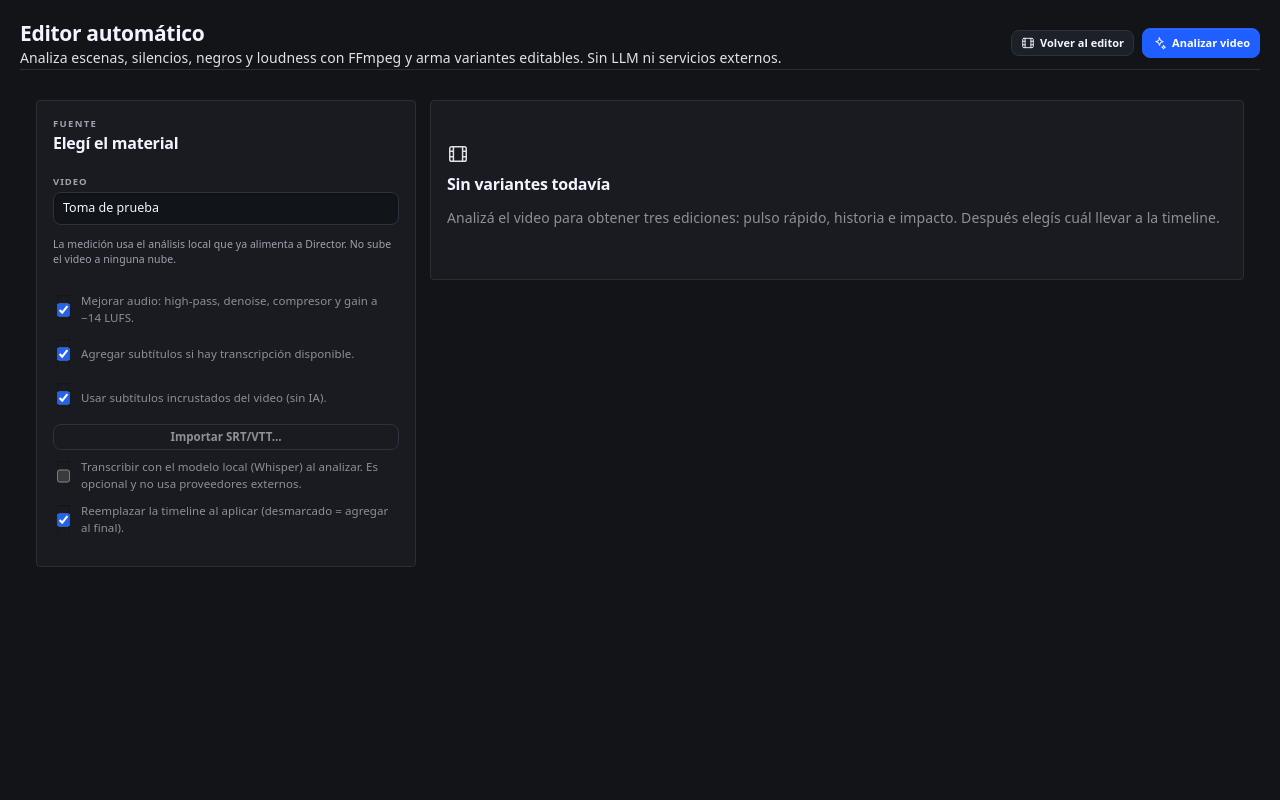
Scenario: editor automático › importa un SRT y lo usa para subtitular las variantes
This screenshot has width=1280, height=800.
Click the button "Analizar video" at (1201, 43), box [1142, 28, 1260, 58]
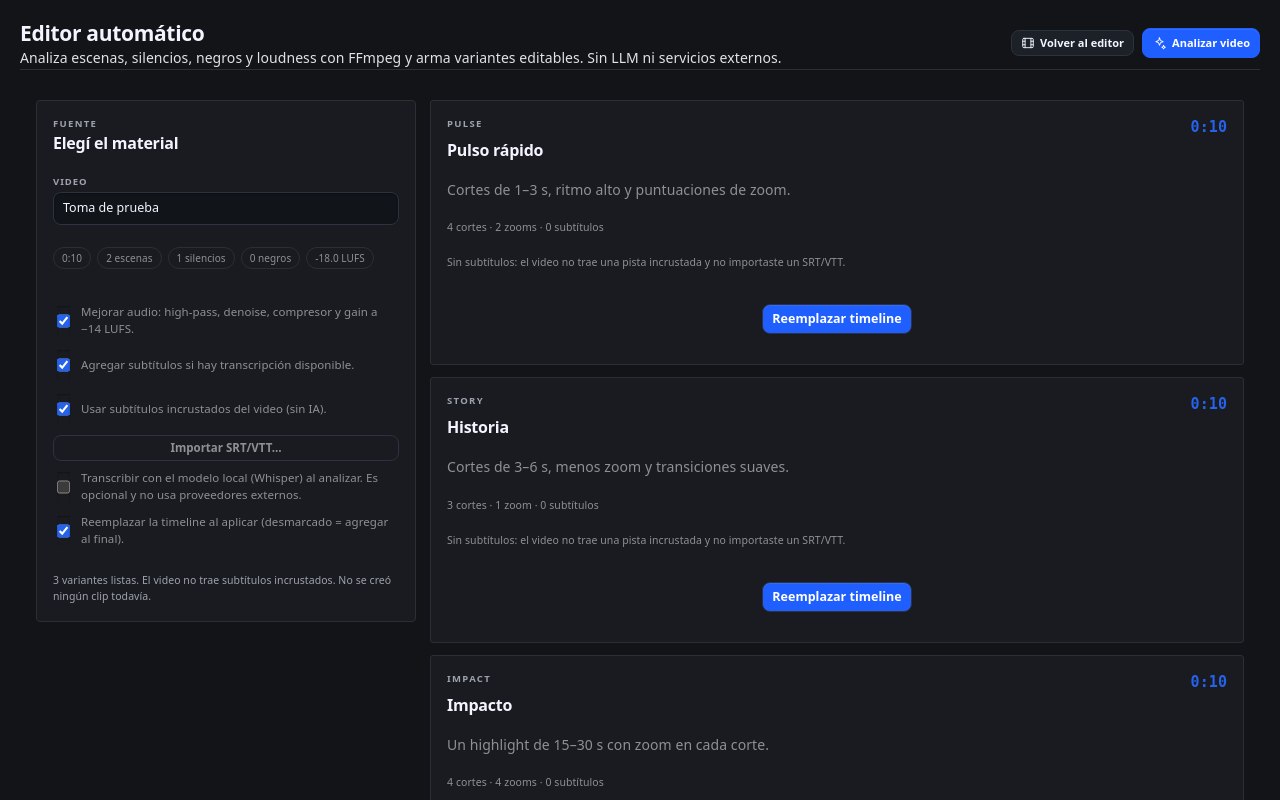
Expected: the heading "Pulso rápido" is shown, [447, 138, 543, 162]
Click the button "Importar SRT/VTT…" at (226, 448), box [53, 435, 399, 461]
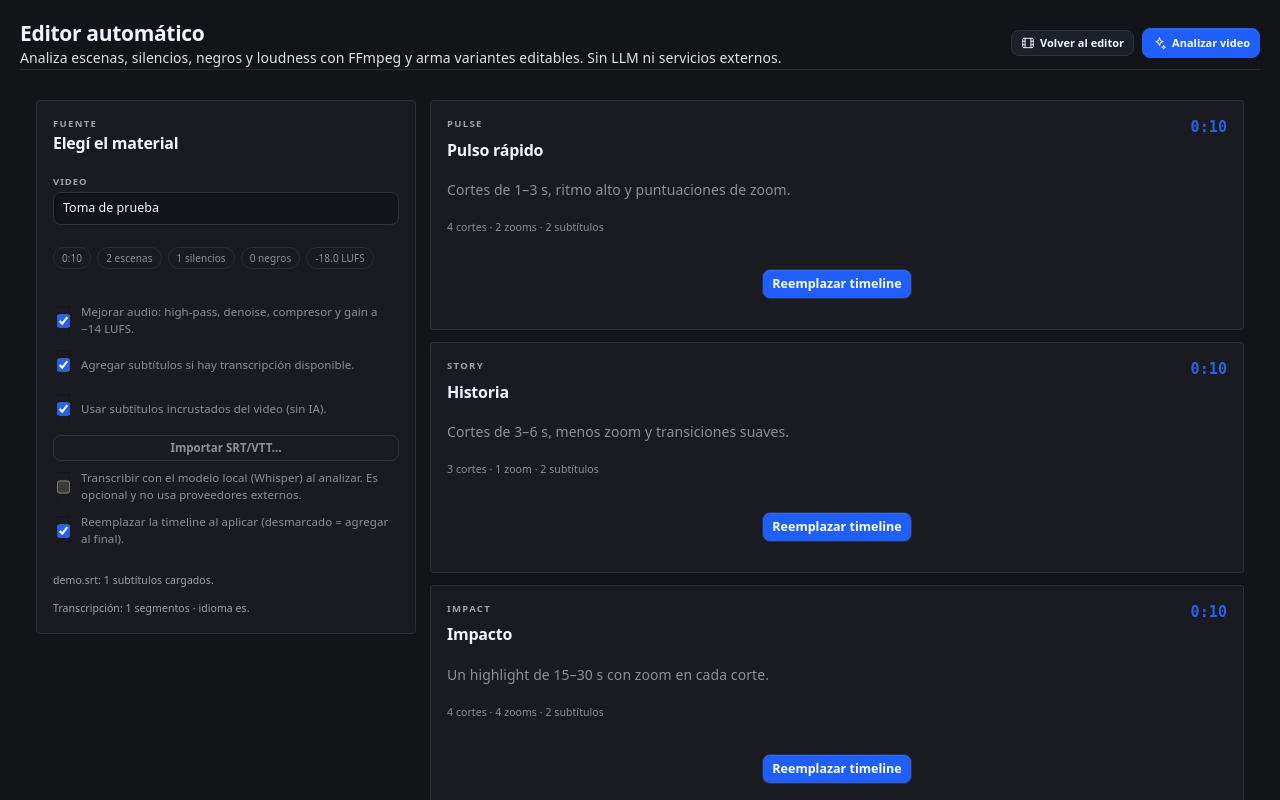
Now the text "demo.srt: 1 subtítulos cargados." is shown, box [53, 573, 214, 587]
